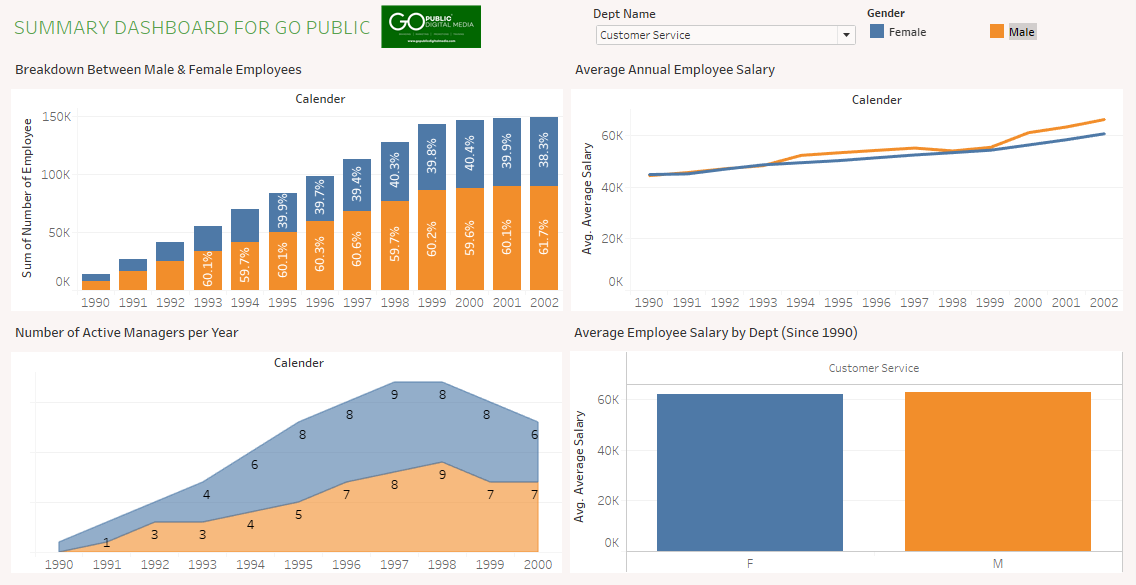

This screenshot's page, from the dashboard's own definition file:
{"tool":"tableau","page":{"name":"Summary Dashboard","canvas":[1000,1000],"units":"permille","ordinal":0},"visuals":[{"type":"text","box":[7,13.5,325.7,86.2]},{"type":"image","param":"C:/Users/user/Pictures/WhatsApp Images/IMG-20181012-WA0000.jpg","box":[332.8,13.5,186.6,86.2]},{"type":"filter","title":"Average Annual Employee Salary","param":"[federated.0wyg95y0eyqkwu1h939n50kr9me5].[none:dept_name:nk]","box":[519.4,13.5,241.2,86.2]},{"type":"legend","title":"Average Annual Employee Salary","param":"[federated.0wyg95y0eyqkwu1h939n50kr9me5].[none:Gender:nk]","box":[760.6,13.5,232.4,86.2]},{"type":"worksheet","title":"Breakdown Between Male & Female Employees","mark":"Automatic","rows":["Number_of_Employee"],"cols":["Calender"],"box":[7,99.7,492.9,443.4]},{"type":"worksheet","title":"Average Annual Employee Salary","mark":"Line","rows":["Average_Salary"],"cols":["calender"],"box":[500,99.7,493,443.4]},{"type":"worksheet","title":"Number of Active Managers per Year","mark":"Area","rows":["active"],"cols":["calender"],"box":[7,543.1,492.4,443.4]},{"type":"worksheet","title":"Average Employee Salary by Dept (Since 1990)","mark":"Bar","rows":["Average_Salary"],"cols":["dept_name","gender"],"box":[499.4,543.1,493.5,443.4]}]}

Visuals, with their boxes on the dashboard's canvas, which has no fixed pixel size, in thousandths of its width and height (x1, y1, x2, y2). These are canvas units, not pixel positions in the 1136x585 screenshot, which may show the page scaled, cropped or inside an application window:
text: bbox=[7, 14, 333, 100]
image: bbox=[333, 14, 519, 100]
"Average Annual Employee Salary" filter: bbox=[519, 14, 761, 100]
"Average Annual Employee Salary" legend: bbox=[761, 14, 993, 100]
"Breakdown Between Male & Female Employees" worksheet: bbox=[7, 100, 500, 543]
"Average Annual Employee Salary" worksheet (Line marks): bbox=[500, 100, 993, 543]
"Number of Active Managers per Year" worksheet (Area marks): bbox=[7, 543, 499, 986]
"Average Employee Salary by Dept (Since 1990)" worksheet (Bar marks): bbox=[499, 543, 993, 986]
